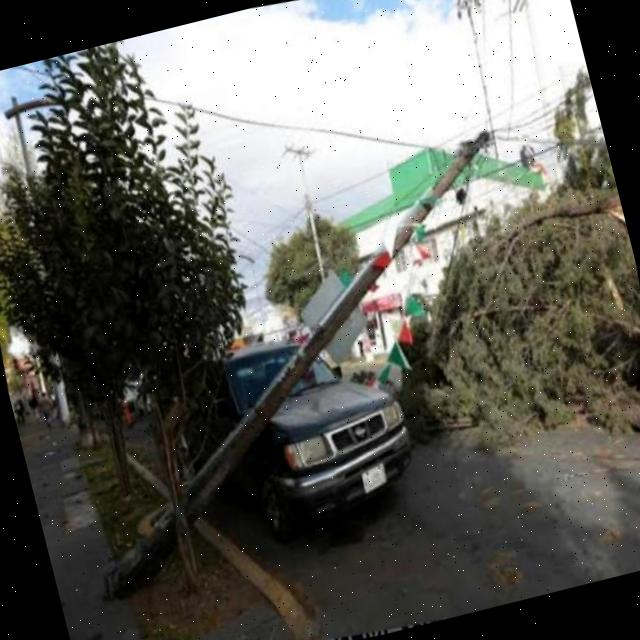Broken Pole: (97, 123, 495, 608)
